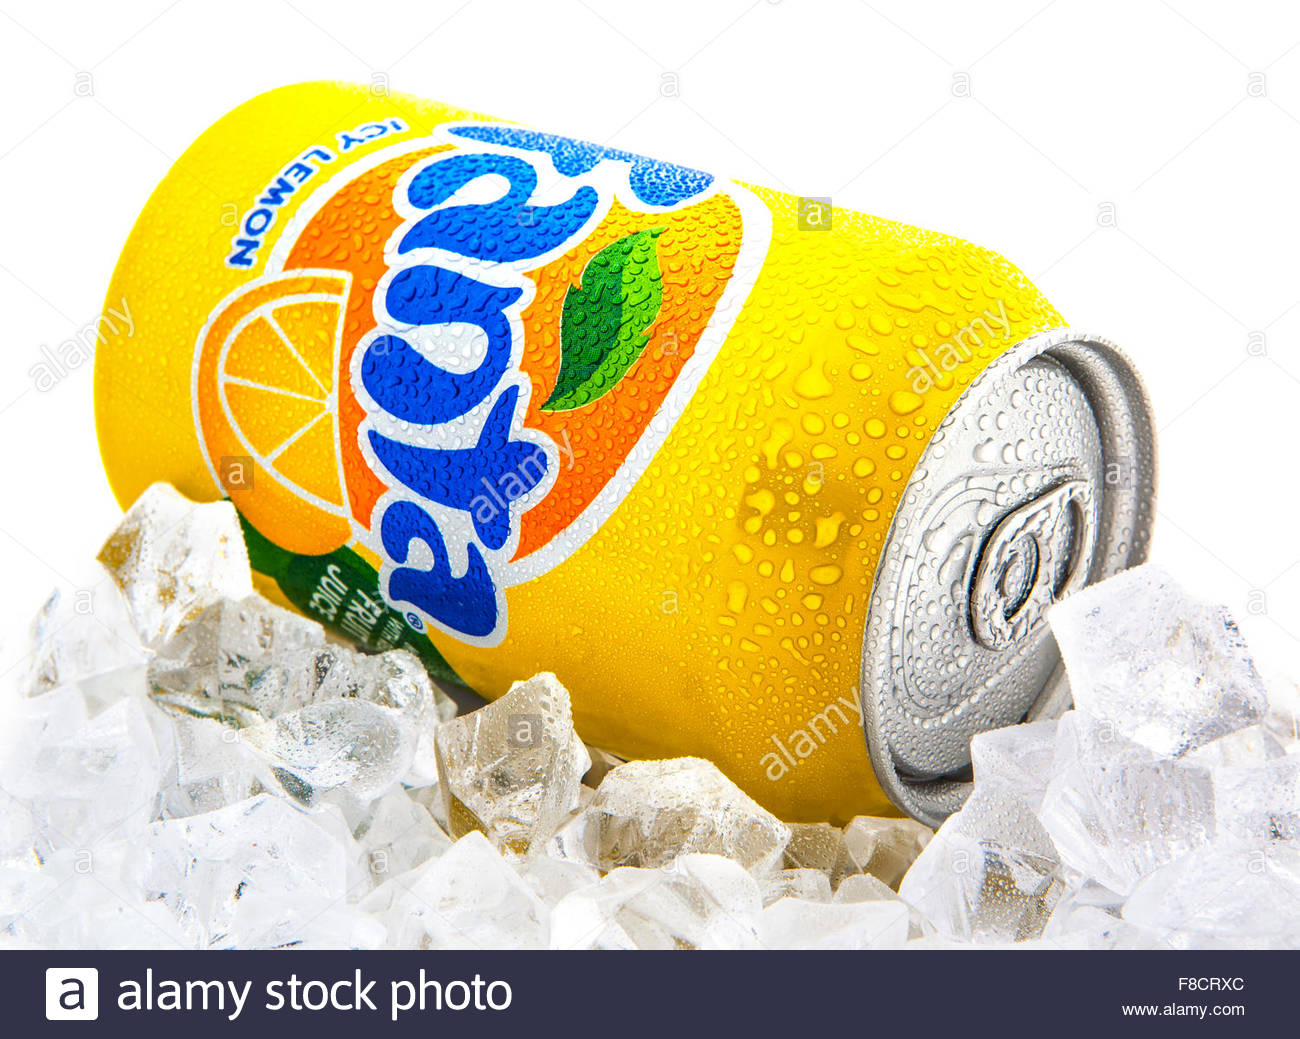fanta: (115, 73, 1087, 762)
